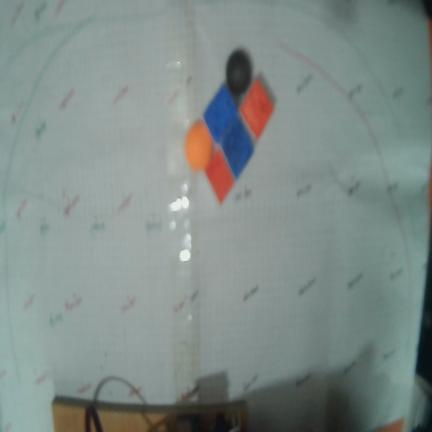circle_blue: (226, 49, 252, 95)
circle_orange: (185, 121, 212, 170)
rectangle_blue: (204, 84, 237, 143)
rectangle_orange: (205, 148, 234, 203)
square_blue: (221, 115, 254, 178)
square_orange: (240, 77, 273, 138)
